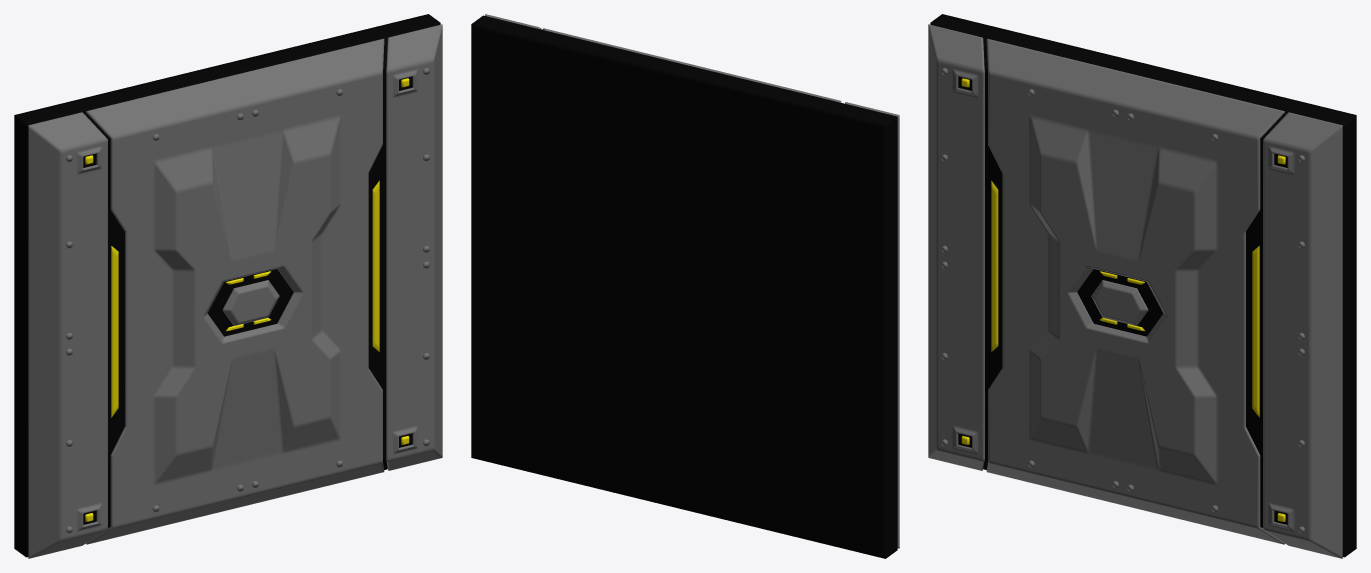
File: sifi2.3.fbx
The picture shows the model from 3 angles, left to right: view 1: azimuth 30°, elevation 25°; view 2: azimuth 150°, elevation 25°; view 3: azimuth 330°, elevation 25°; orthographic projection.
Visible parts, largest first — view 1: SciFi_Panel_001; view 2: SciFi_Panel_001; view 3: SciFi_Panel_001.
Part boxes in pixels (left/top/right/bottom): SciFi_Panel_001: left=14, top=14, right=442, bottom=558; SciFi_Panel_001: left=471, top=14, right=899, bottom=558; SciFi_Panel_001: left=928, top=14, right=1356, bottom=558.
Size of the model in its own units: 200 by 200 by 26.73.
